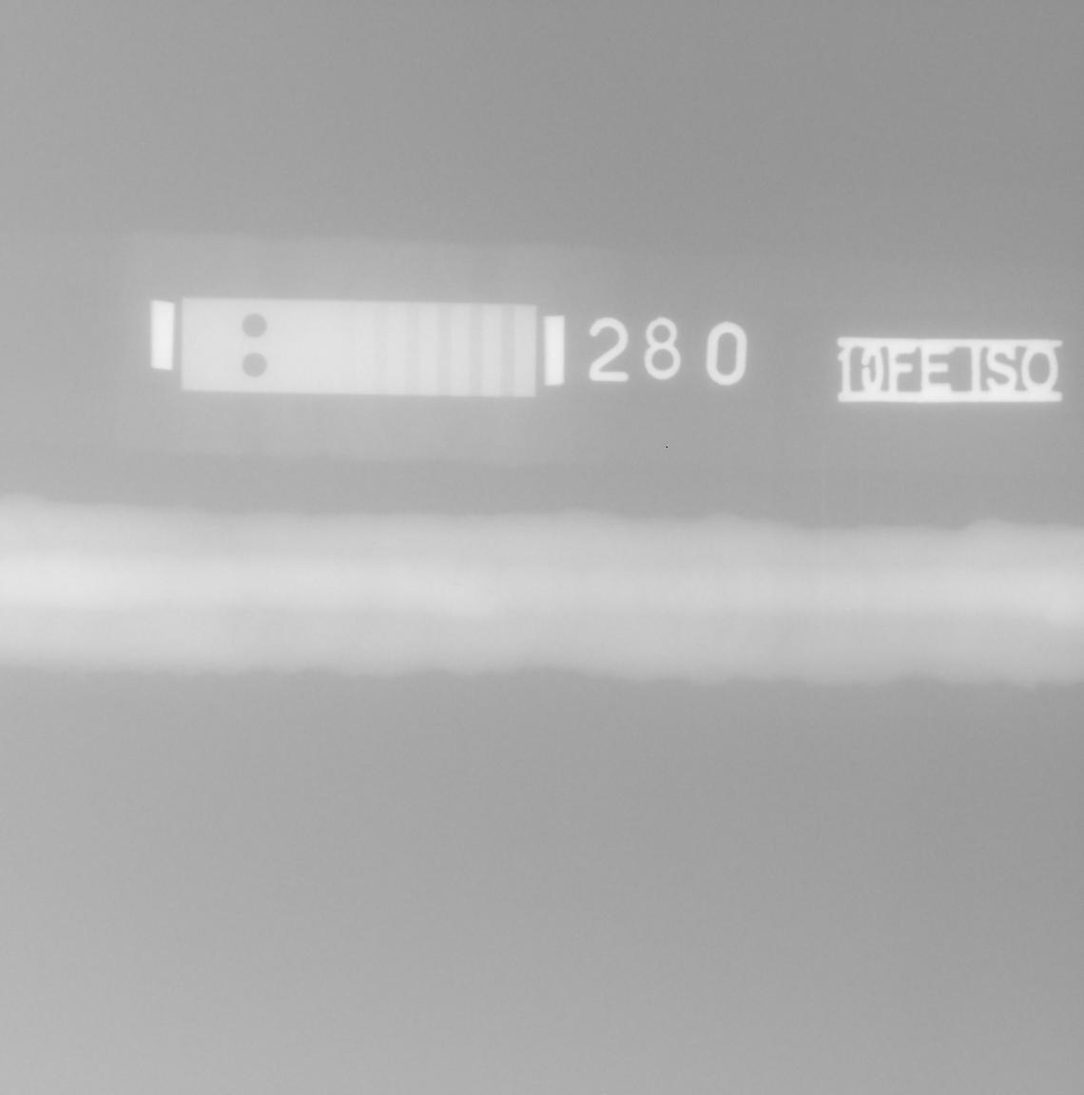Inclusion: (58, 525, 72, 531)
Pore/Porosity: (452, 583, 463, 587), (43, 571, 49, 576), (110, 568, 116, 572)
Reference Standard 2: (182, 297, 536, 399)
